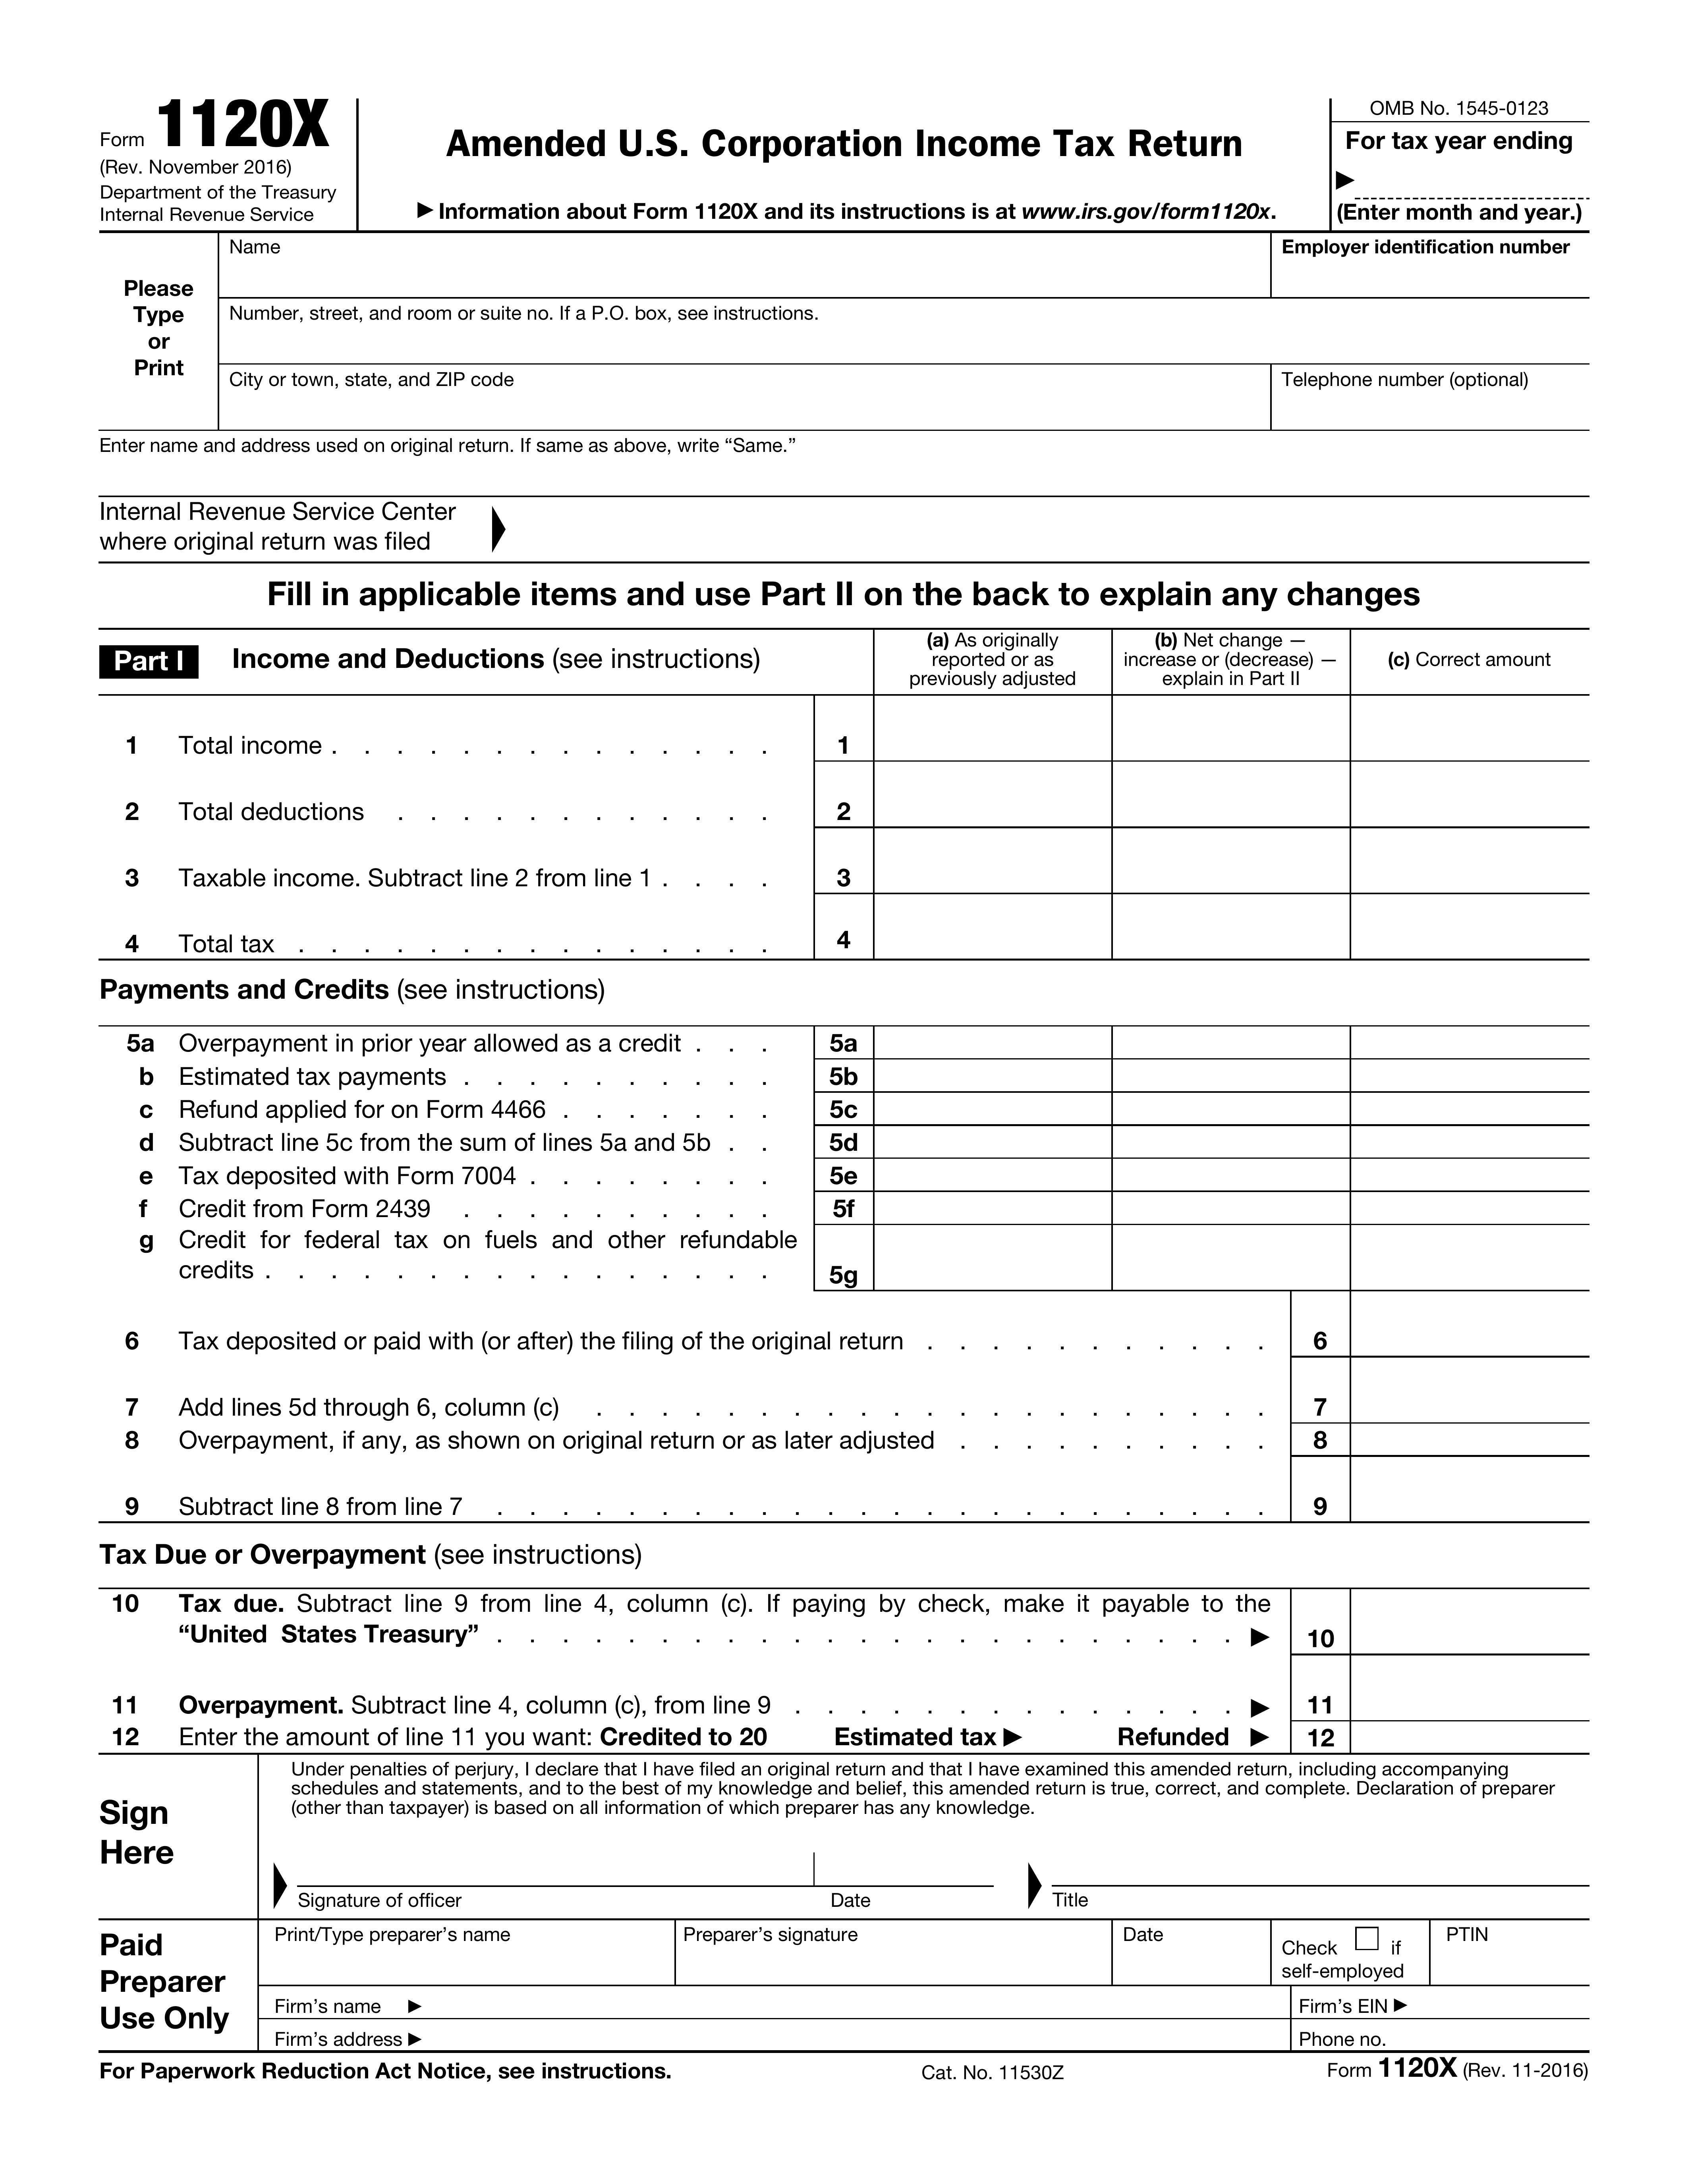form: (80, 80, 1610, 567), (80, 1753, 1622, 2058)
table: (96, 1009, 1624, 1748), (83, 626, 1617, 966)
